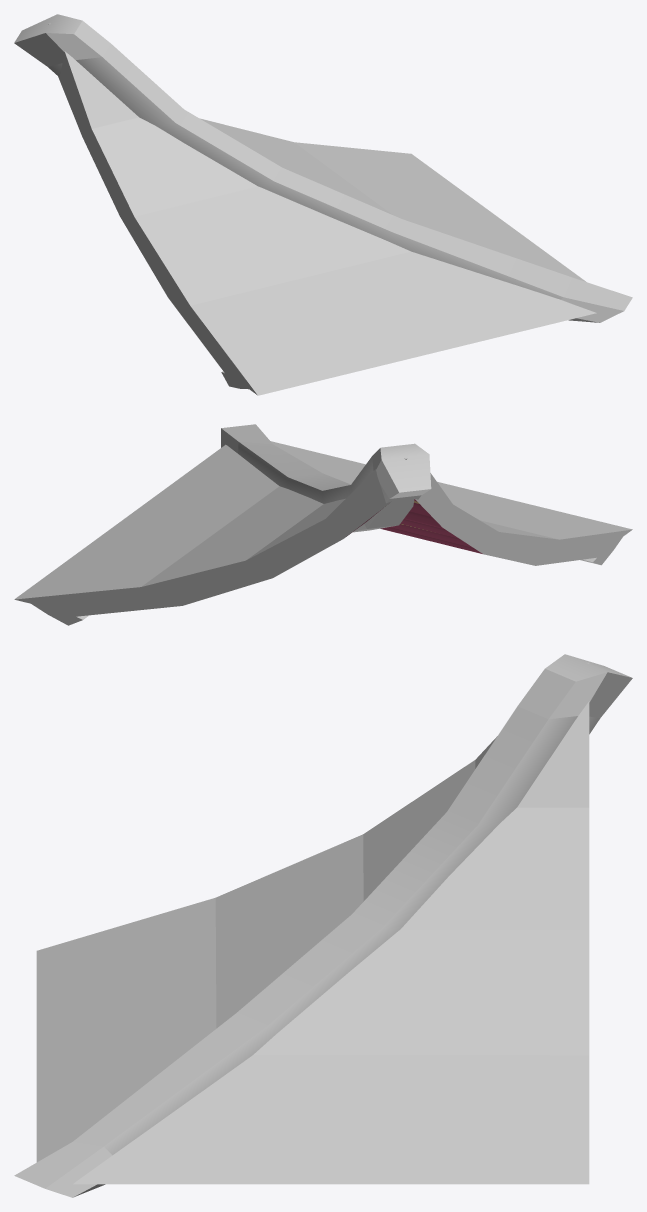
File: SM_Bld_Roof_M_Concave_Corner_Out_01.fbx
3 renders of one model, top to bottom at view 1: azimuth 30°, elevation 25°; view 2: azimuth 150°, elevation 25°; view 3: azimuth 270°, elevation 25°, orthographic. The views are drawn at different scales.
Parts seen in each view (by area): view 1: SM_Bld_Roof_M_Concave_Corner_Out_01; view 2: SM_Bld_Roof_M_Concave_Corner_Out_01; view 3: SM_Bld_Roof_M_Concave_Corner_Out_01.
Part boxes in pixels (bbox=[...]): SM_Bld_Roof_M_Concave_Corner_Out_01: bbox=[14, 14, 632, 395]; SM_Bld_Roof_M_Concave_Corner_Out_01: bbox=[14, 424, 632, 625]; SM_Bld_Roof_M_Concave_Corner_Out_01: bbox=[14, 654, 632, 1197].
Size of the model in its own units: 293 by 160 by 293.
